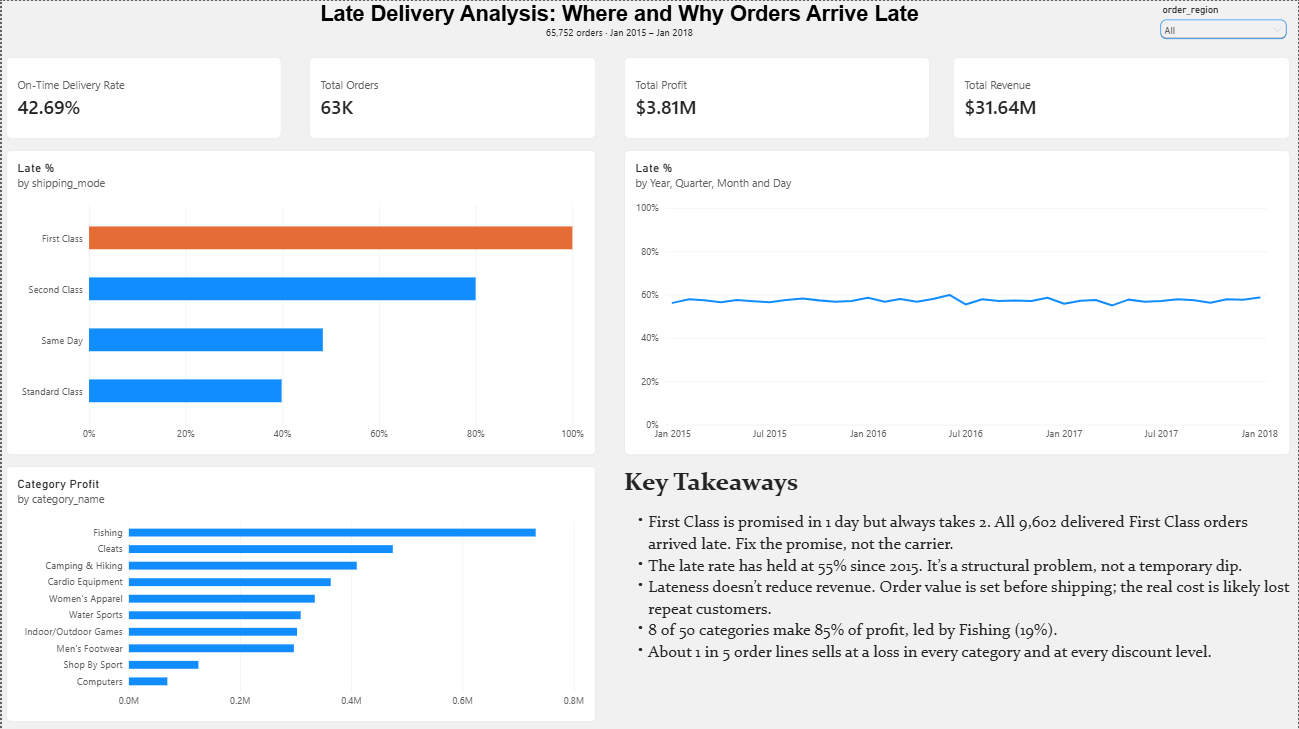

This screenshot's page, from the dashboard's own definition file:
{"tool":"powerbi","page":{"name":"Delivery Overview","canvas":[1920,1080],"ordinal":0},"visuals":[{"type":"cardVisual","fields":{"Data":["orders.On-Time Delivery Rate"]},"box":[5.9,83,408.9,121.5],"z":0},{"type":"cardVisual","fields":{"Data":["orders.Total Profit"]},"box":[921.5,83,453.3,121.5],"z":1000},{"type":"cardVisual","fields":{"Data":["orders.Total Orders"]},"box":[454.8,83,425.2,121.5],"z":2000},{"type":"cardVisual","fields":{"Data":["orders.Total Revenue"]},"box":[1408.9,83,499.3,121.5],"z":3000},{"type":"lineChart","fields":{"Category":["orders.Order Month.Variation.Date Hierarchy.Year","orders.Order Month.Variation.Date Hierarchy.Quarter","orders.Order Month.Variation.Date Hierarchy.Month","orders.Order Month.Variation.Date Hierarchy.Day"],"Y":["orders.Late %"]},"box":[921.5,220.7,986.7,451.9],"z":4000},{"type":"clusteredBarChart","fields":{"Category":["orders.shipping_mode"],"Y":["orders.Late %"]},"box":[5.9,220.7,874.1,451.9],"z":5000},{"type":"slicer","fields":{"Values":["orders.order_region"]},"box":[1711.1,4.4,197,51.9],"z":6000},{"type":"clusteredBarChart","fields":{"Category":["order_items.category_name"],"Y":["orders.Category Profit"]},"box":[5.9,688.9,874.1,379.3],"z":7000},{"type":"textbox","box":[454.8,0,920,60.7],"z":7001},{"type":"textbox","box":[921,689,987,379],"z":7002}]}

Visuals, with their boxes in screenshot pixels (x1, y1, x2, y2), scaled from the page's 1920x1080 canvas onto the 1299x729 screenshot:
cardVisual - orders.On-Time Delivery Rate: (x1=4, y1=56, x2=281, y2=138)
cardVisual - orders.Total Profit: (x1=623, y1=56, x2=930, y2=138)
cardVisual - orders.Total Orders: (x1=308, y1=56, x2=595, y2=138)
cardVisual - orders.Total Revenue: (x1=953, y1=56, x2=1291, y2=138)
lineChart - orders.Order Month.Variation.Date Hierarchy.Year x orders.Order Month.Variation.Date Hierarchy.Quarter: (x1=623, y1=149, x2=1291, y2=454)
clusteredBarChart - orders.shipping_mode x orders.Late %: (x1=4, y1=149, x2=595, y2=454)
slicer - orders.order_region: (x1=1158, y1=3, x2=1291, y2=38)
clusteredBarChart - order_items.category_name x orders.Category Profit: (x1=4, y1=465, x2=595, y2=721)
textbox: (x1=308, y1=0, x2=930, y2=41)
textbox: (x1=623, y1=465, x2=1291, y2=721)
